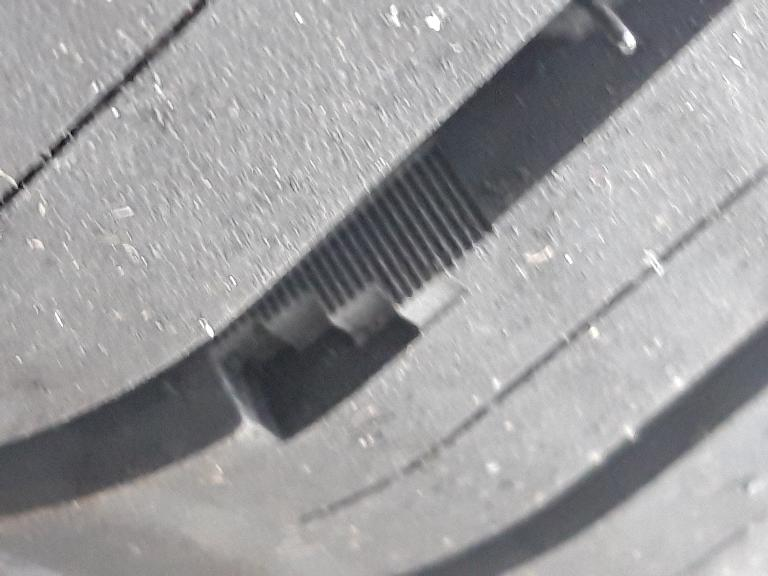temoin:75: (214, 194, 478, 463)
